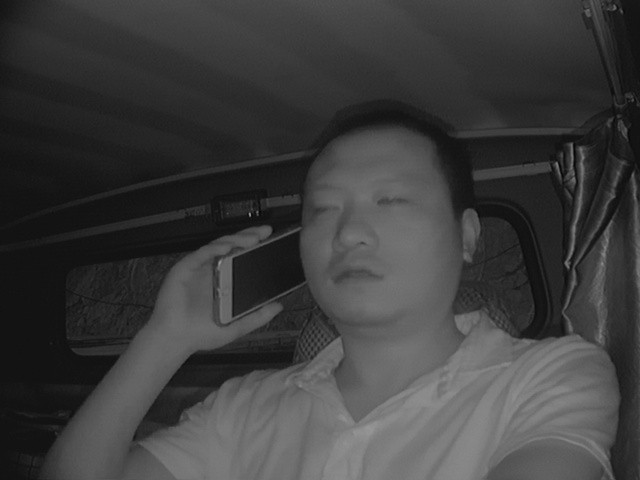hand: (163, 229, 288, 352)
